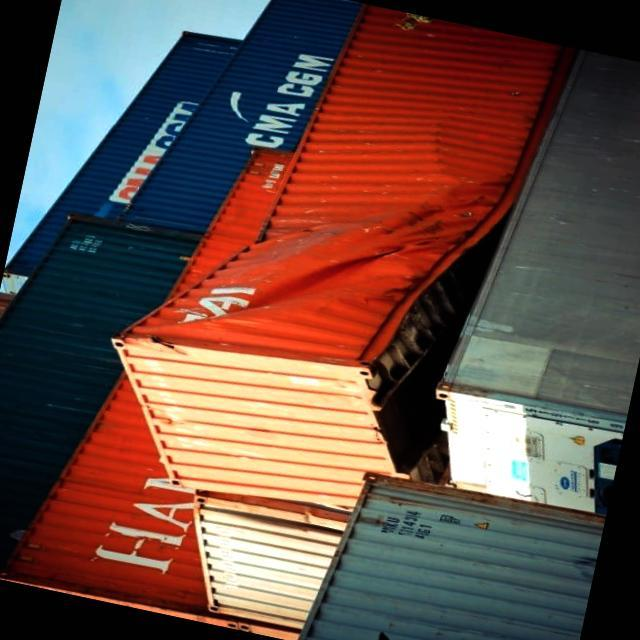hole: (103, 180, 491, 506)
rust: (367, 469, 511, 519)
